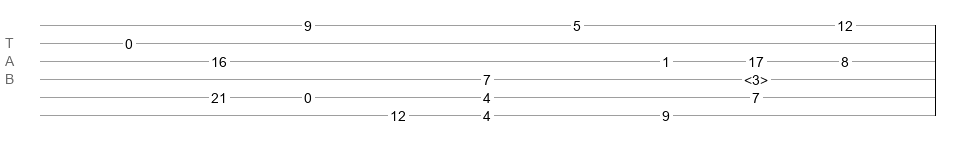0: (125, 36, 133, 46), (304, 90, 312, 100)
1: (662, 54, 670, 64)
12: (390, 108, 406, 118), (837, 18, 853, 28)
16: (211, 54, 227, 64)
17: (748, 54, 764, 64)
21: (211, 90, 227, 100)
4: (483, 108, 491, 118), (483, 90, 491, 100)
5: (573, 18, 581, 28)
7: (483, 72, 491, 82), (752, 90, 760, 100)
8: (841, 54, 849, 64)
9: (304, 18, 312, 28), (662, 108, 670, 118)
harmonic: (744, 72, 768, 82)
